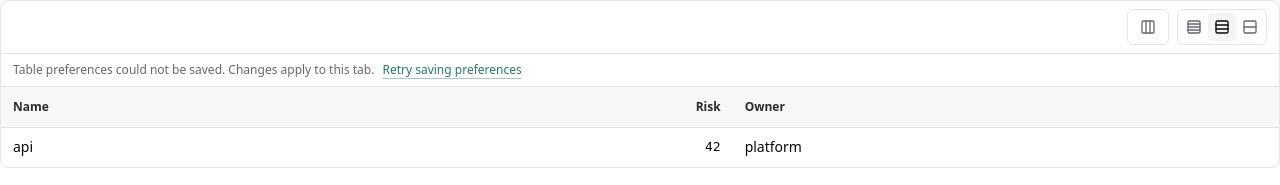
Test: DataTable acceptance › reports unavailable storage while keeping density controls usable
Expected: the message shows "could not be saved", [13,61,374,78]
Click the button named "compact density": x=1194, y=27 [1180,13,1208,41]
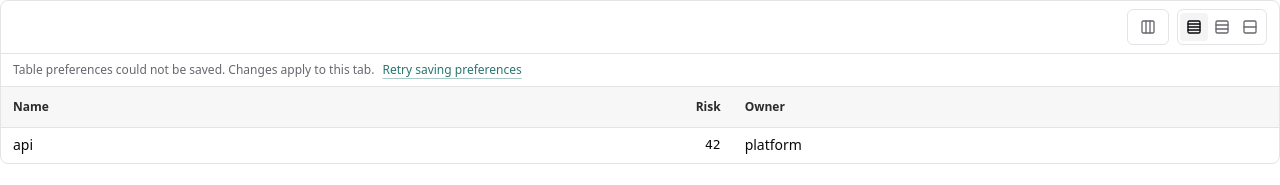
Now the row "api 42 platform" has class "h-9", box [1,127,1279,163]
Now the button named "compact density" is pressed, box [1180,13,1208,41]
Click the button "Retry saving preferences": x=452, y=70 [382,62,522,78]
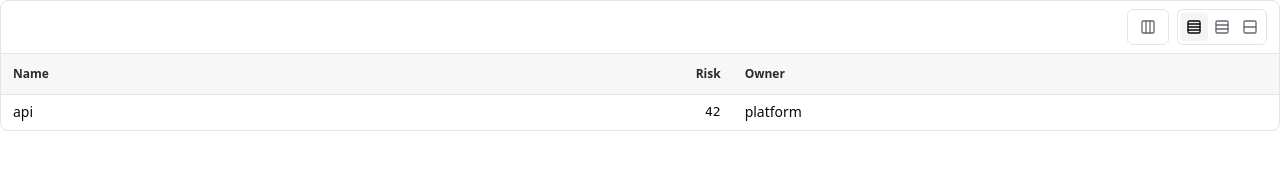
Now the message is gone
